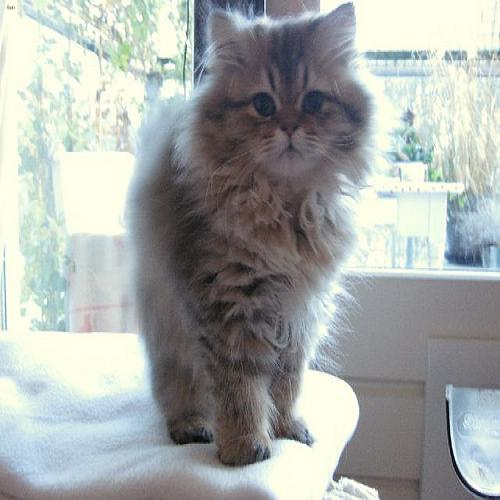persian: (200, 1, 374, 211)
